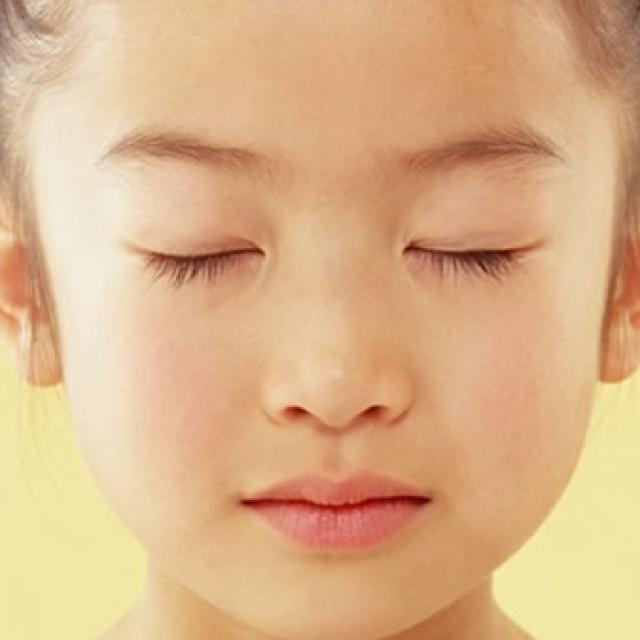close: (382, 123, 583, 293), (91, 129, 287, 294)
